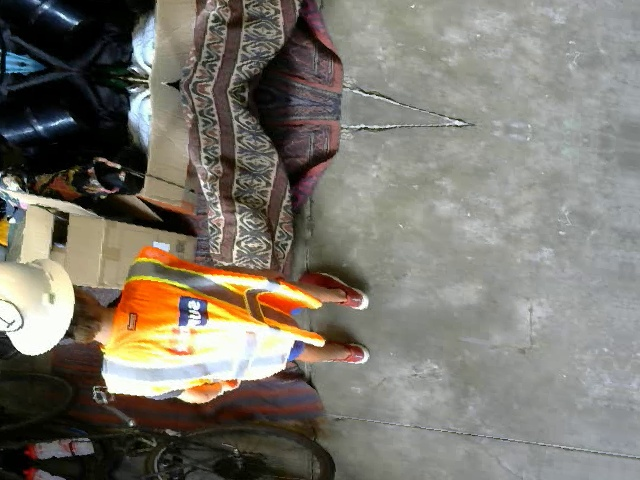one: (0, 295, 22, 334)
